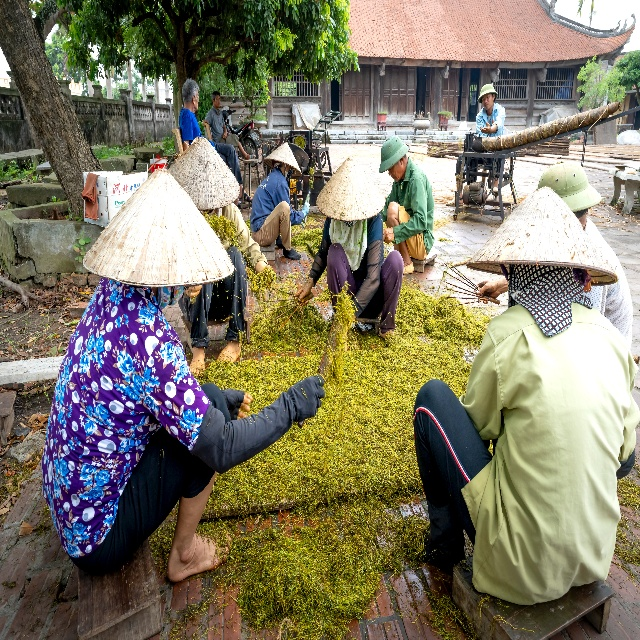Guantes: (192, 374, 325, 476), (222, 386, 244, 420), (301, 194, 310, 216), (300, 218, 305, 228)
Sin_guantes: (474, 280, 499, 304), (295, 282, 310, 307), (382, 226, 395, 244), (186, 285, 202, 297), (480, 122, 492, 135), (202, 119, 209, 128), (222, 132, 228, 139)
